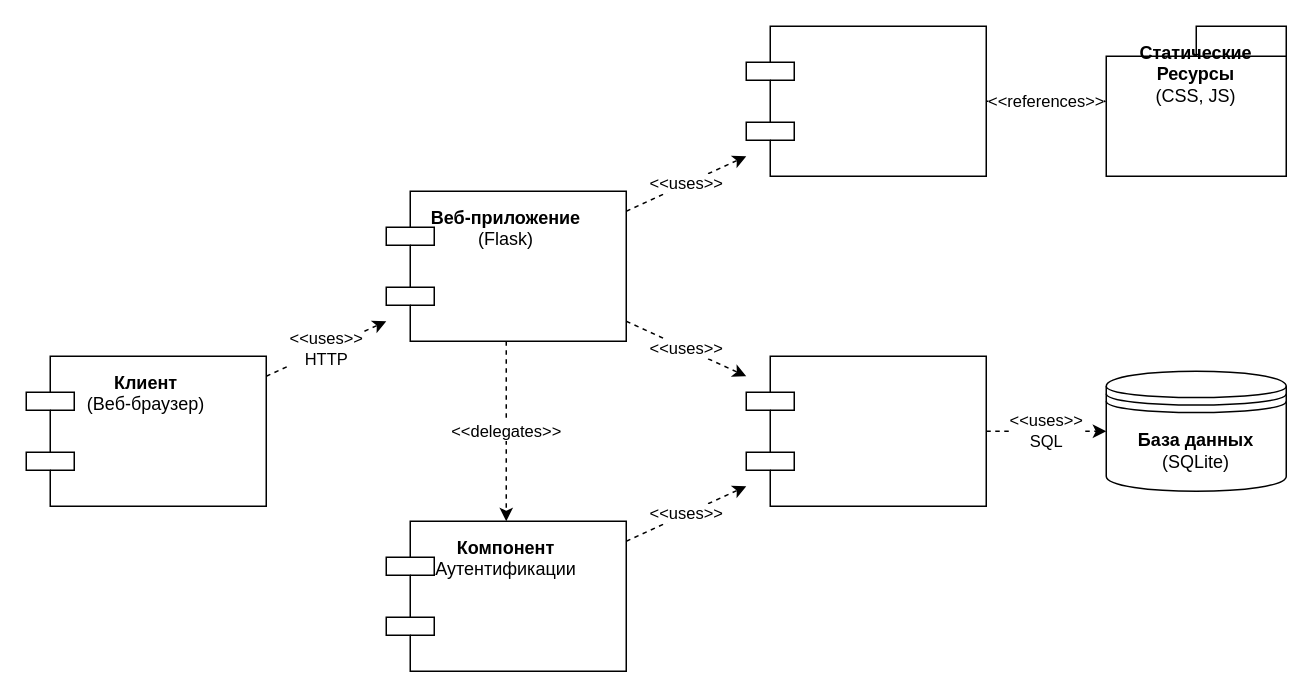
Some shapes in this 1313 by 698 pixel diagram are drawn without their labels. The shapes that lost their labels are listed below. From the top down, each one's centre as x and y in pixels, then its label:
At (x=865, y=100): "Компонент Шаблонов (Jinja2)".
At (x=865, y=430): "Компонент ORM (SQLAlchemy)".
